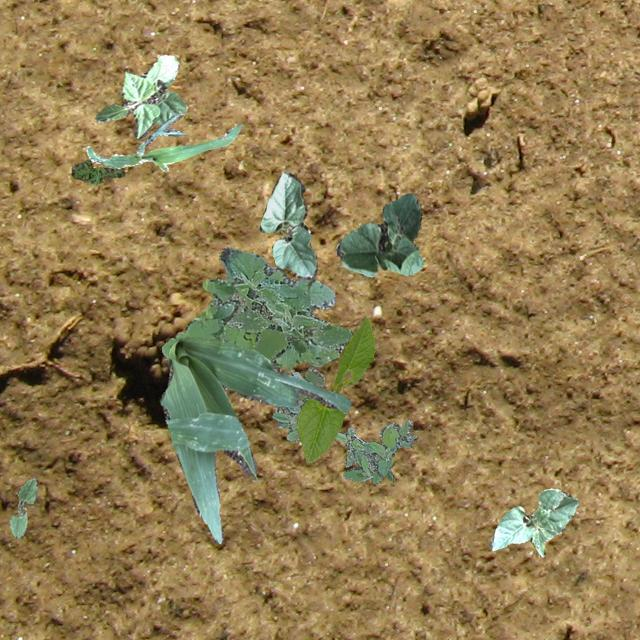crop: (158, 334, 350, 542), (296, 316, 374, 462), (85, 114, 242, 170), (95, 54, 186, 138), (336, 192, 422, 276), (258, 170, 316, 278), (488, 488, 578, 556), (9, 477, 36, 538)
weed: (160, 248, 344, 370), (225, 260, 352, 362), (334, 420, 416, 482), (272, 366, 324, 440), (70, 158, 124, 184)
